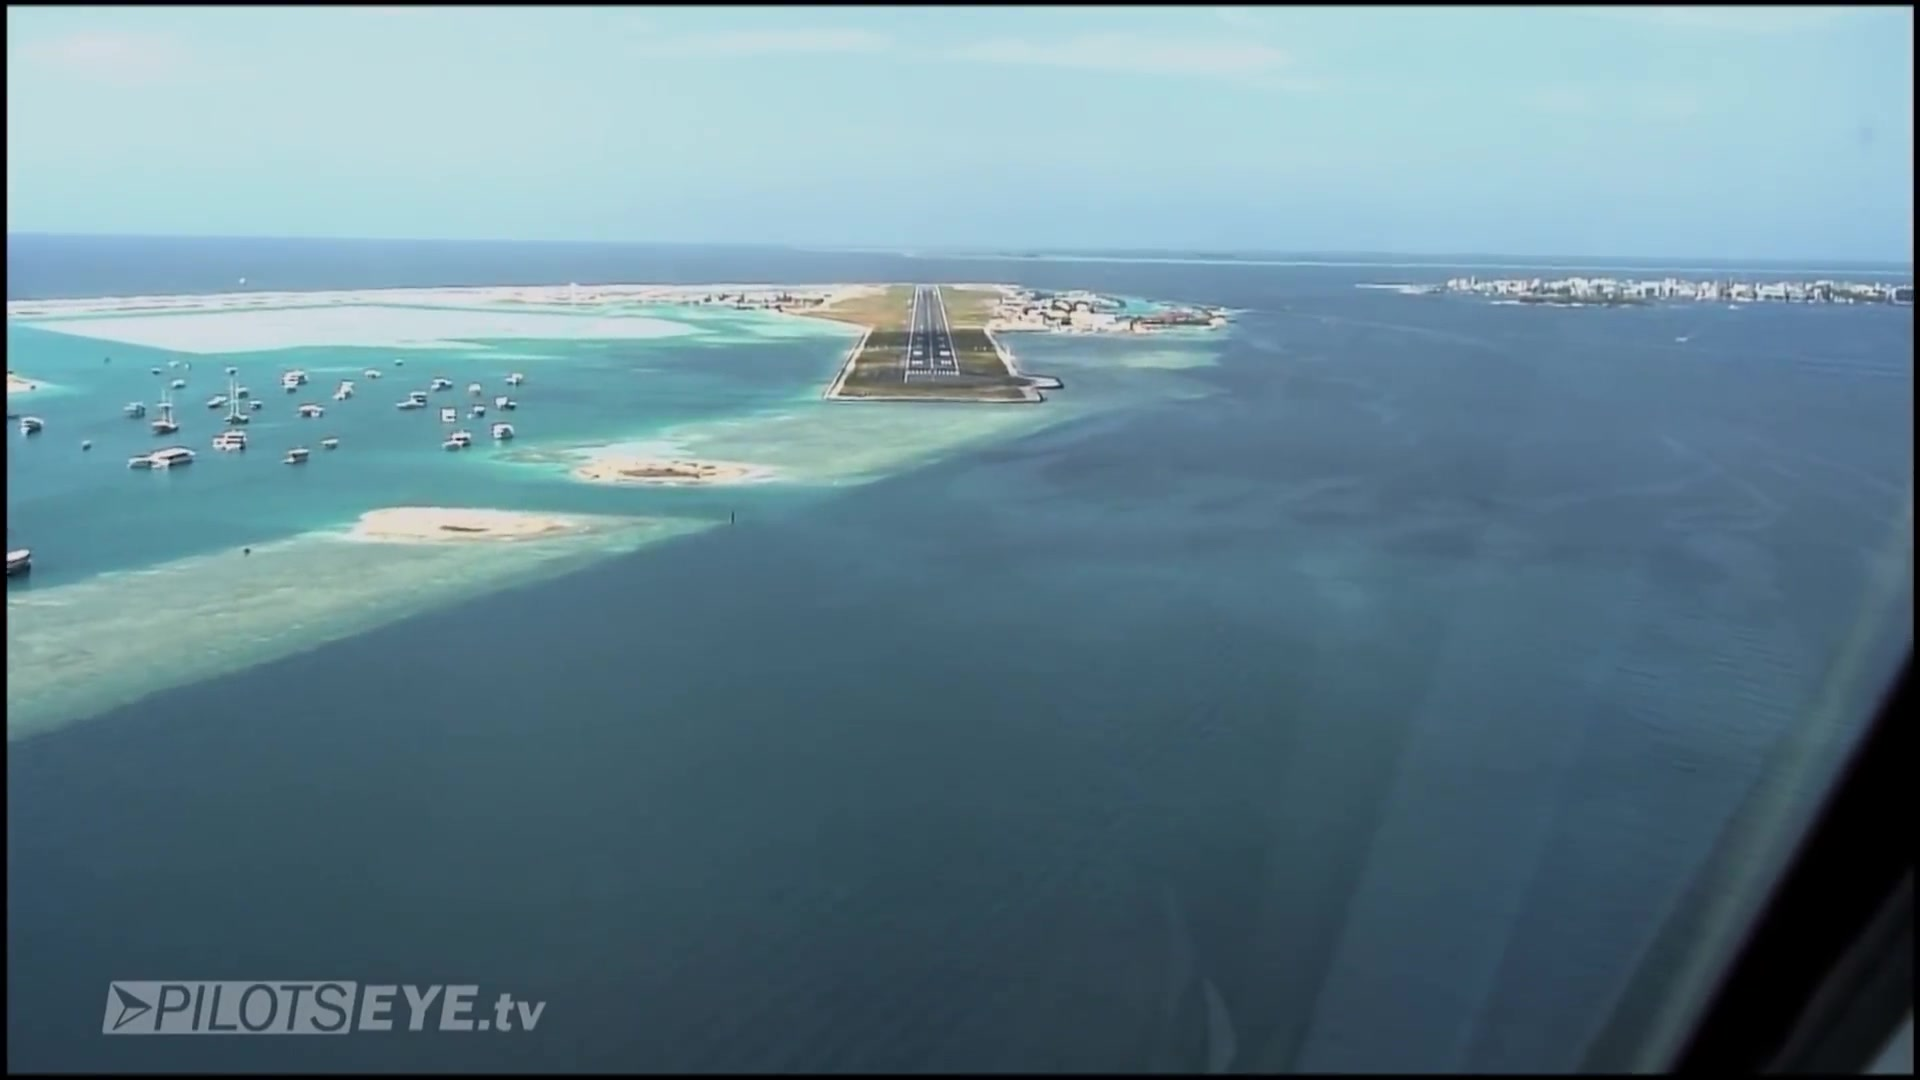entrance: (905, 367, 963, 378)
runway: (901, 287, 963, 390)
